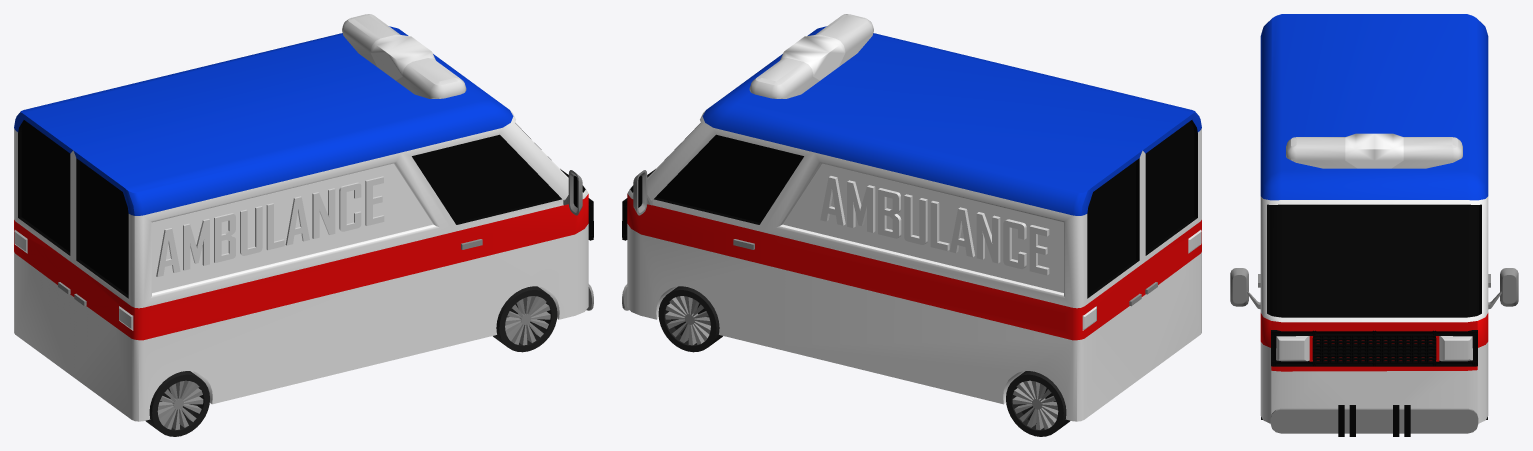
File: vanambulance_2.fbx
3 renders of one model, left to right at view 1: azimuth 30°, elevation 25°; view 2: azimuth 150°, elevation 25°; view 3: azimuth 270°, elevation 25°, orthographic. The views are drawn at different scales.
Parts seen in each view (by area): view 1: vanambulance_2, vanambulance_1, vanambulance_3, vanambulance_4; view 2: vanambulance_2, vanambulance, vanambulance_3, vanambulance_4; view 3: vanambulance_2.
Boxes of the visible parts, x1=… form: vanambulance_2: x1=14, y1=14, x2=593, y2=421; vanambulance_1: x1=156, y1=176, x2=384, y2=276; vanambulance_3: x1=493, y1=286, x2=557, y2=352; vanambulance_4: x1=145, y1=371, x2=209, y2=436; vanambulance_2: x1=622, y1=14, x2=1201, y2=421; vanambulance: x1=820, y1=176, x2=1049, y2=275; vanambulance_3: x1=658, y1=286, x2=722, y2=352; vanambulance_4: x1=1006, y1=371, x2=1070, y2=436; vanambulance_2: x1=1230, y1=14, x2=1518, y2=436.
Bounding box in the file's own units: 1261 × 702 × 740.
